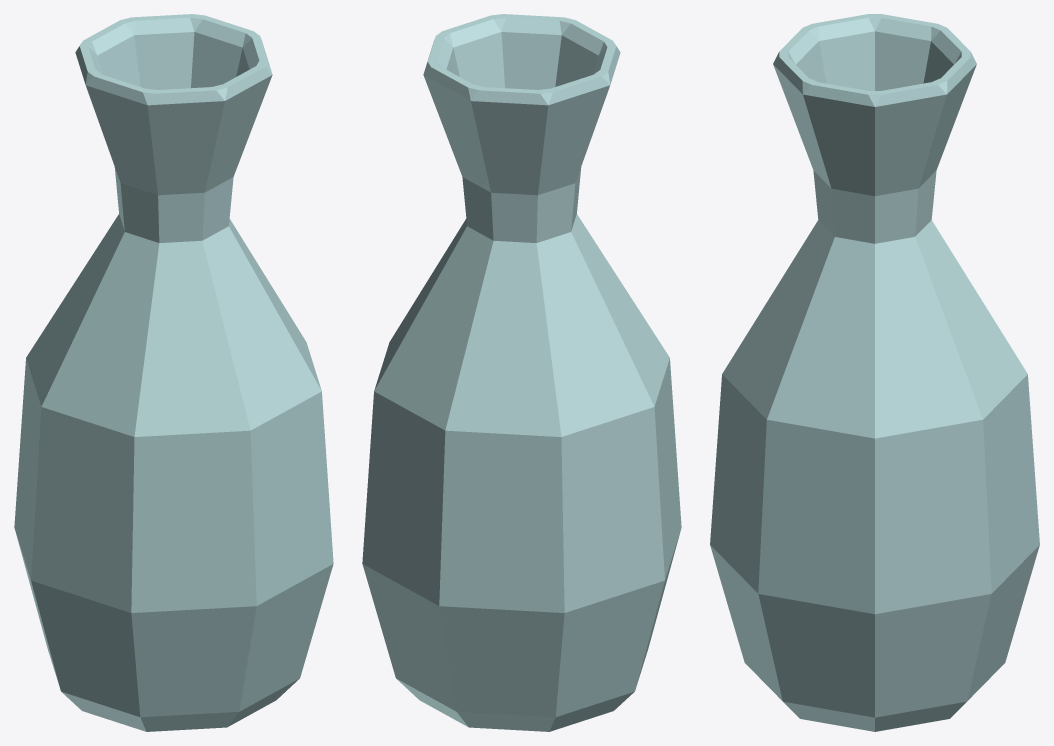
Rendered from Vase.fbx.
The picture shows the model from 3 angles, left to right: view 1: azimuth 30°, elevation 25°; view 2: azimuth 150°, elevation 25°; view 3: azimuth 270°, elevation 25°; orthographic projection.
Visible parts, largest first — view 1: Cylinder; view 2: Cylinder; view 3: Cylinder.
Boxes of the visible parts, x1=… form: Cylinder: x1=14, y1=14, x2=333, y2=731; Cylinder: x1=362, y1=14, x2=681, y2=731; Cylinder: x1=710, y1=14, x2=1039, y2=731.
Size of the model in its own units: 54.28 by 115 by 54.38.
